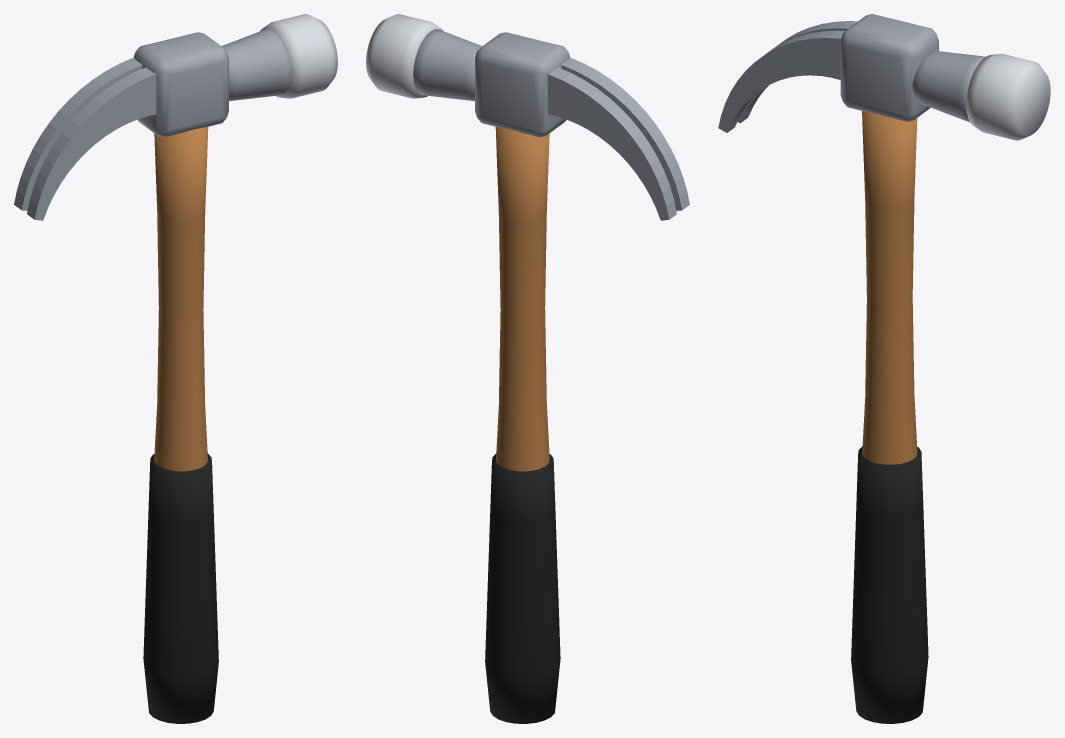
File: Tool_3_Hammer.glb
3 views of the same model, side by side, from view 1: azimuth 30°, elevation 25°; view 2: azimuth 150°, elevation 25°; view 3: azimuth 330°, elevation 25° (orthographic). The views are drawn at different scales.
Parts seen in each view (by area): view 1: Grip, Handle, Head, Claw, Face; view 2: Grip, Handle, Head, Claw, Face; view 3: Grip, Handle, Head, Face, Claw.
Part boxes in pixels (<box>): Grip: <box>143,453,218,723</box>; Handle: <box>154,127,208,471</box>; Head: <box>134,29,290,137</box>; Claw: <box>14,57,156,220</box>; Face: <box>260,14,337,98</box>; Grip: <box>485,453,560,723</box>; Handle: <box>495,127,549,471</box>; Head: <box>413,29,569,137</box>; Claw: <box>547,57,689,220</box>; Face: <box>366,14,443,98</box>; Grip: <box>851,446,928,723</box>; Handle: <box>862,111,917,464</box>; Head: <box>840,14,985,122</box>; Face: <box>966,53,1050,140</box>; Claw: <box>718,21,857,132</box>.
Size of the model in its own units: 0.199 by 0.425 by 0.046.
